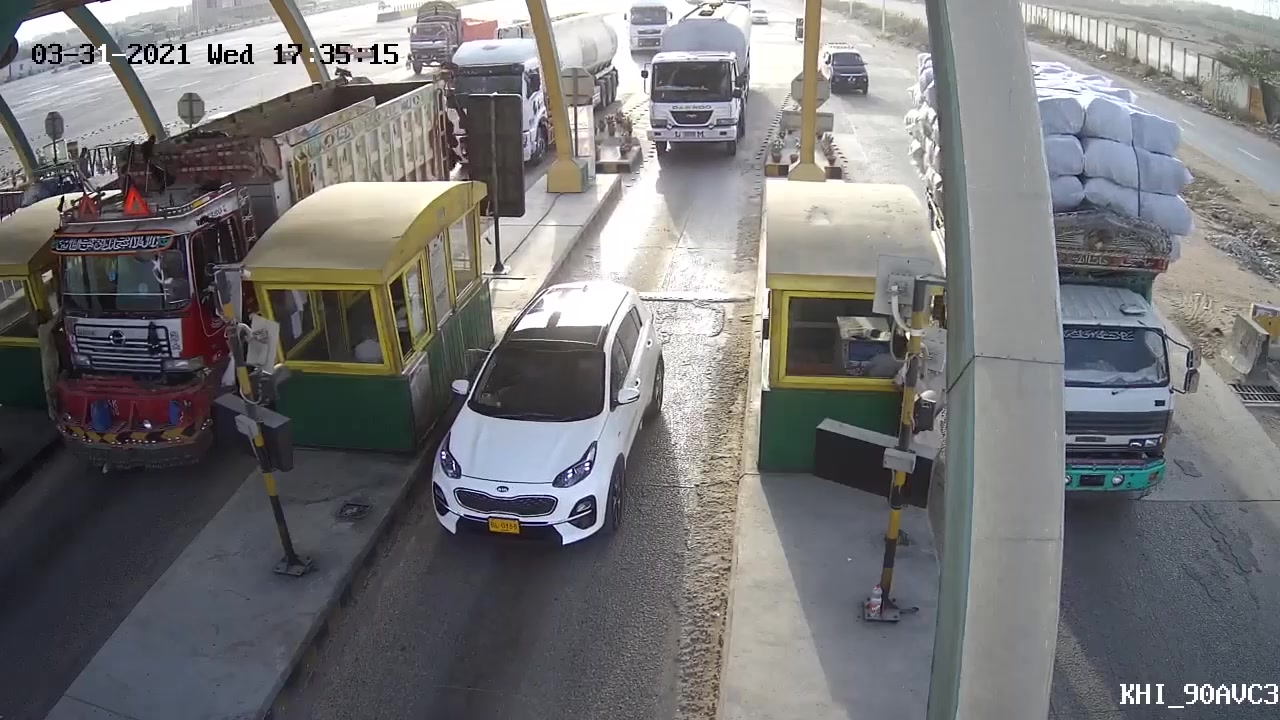F1: (420, 278, 663, 552)
F5: (644, 21, 756, 160)
